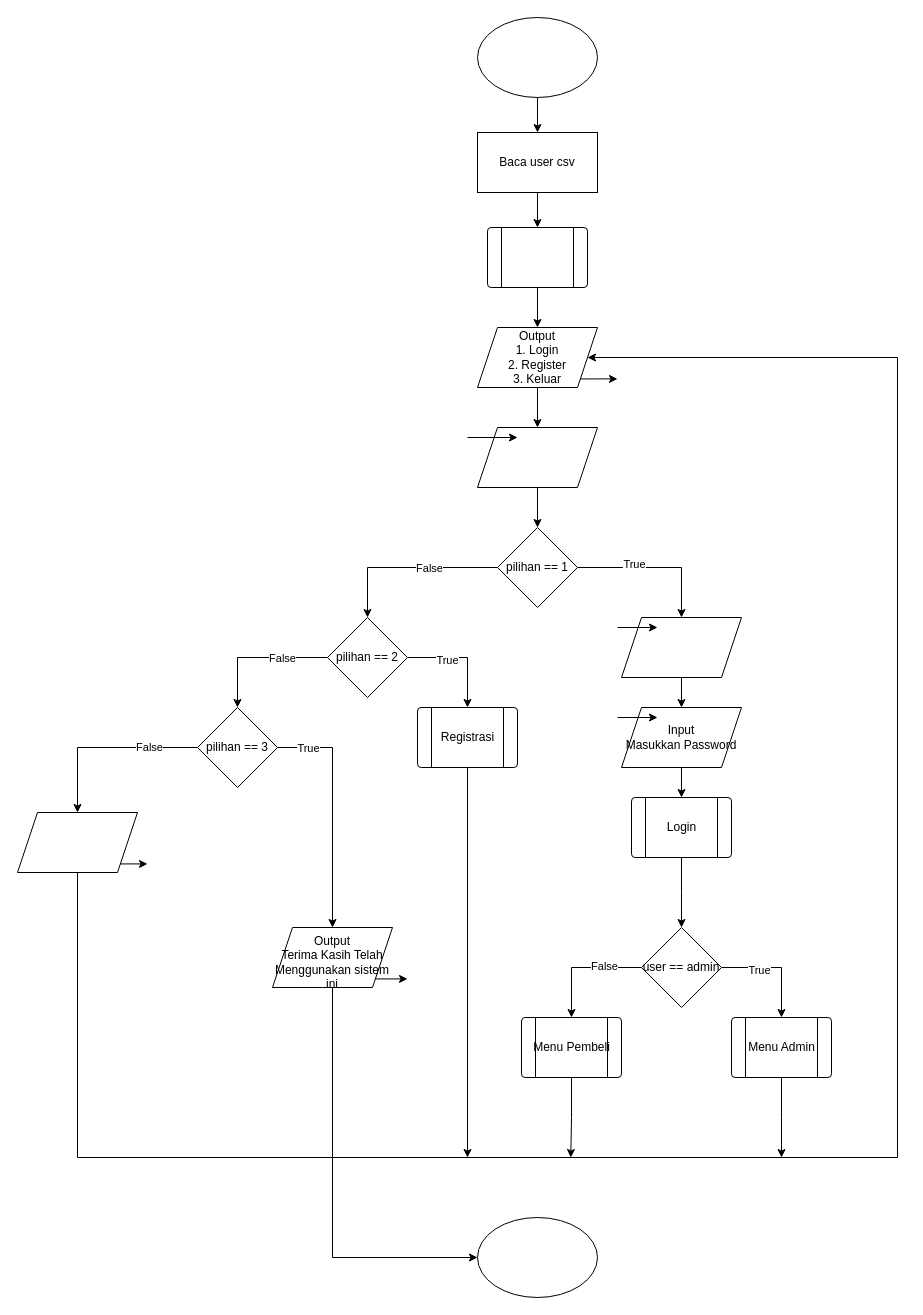
Image size: 923x1315. Some labels were removed from this diagram. The box of each missing label's shape, as (x1, y1, x2, y2) in pixels:
End: (476, 1216, 598, 1298)
Input masukkan username: (620, 616, 742, 678)
Input Pilihan: (476, 426, 598, 488)
Main: (486, 226, 588, 288)
Output Pilihan Tidak Valid: (16, 812, 138, 872)
Start: (476, 16, 598, 98)
